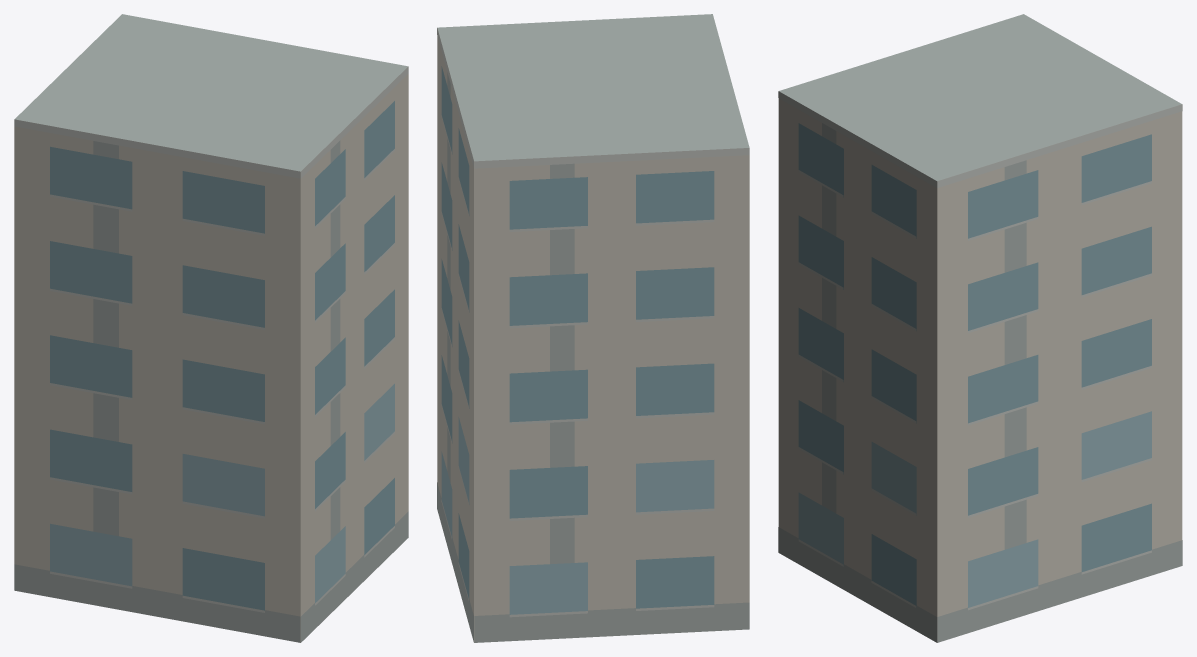
The model's file is residential-e62d8002-8de6-423d-96d1-4c21ae1aebe7.glb.
3 renders of one model, left to right at view 1: azimuth 30°, elevation 25°; view 2: azimuth 150°, elevation 25°; view 3: azimuth 270°, elevation 25°, orthographic. The views are drawn at different scales.
Parts seen in each view (by area): view 1: residential-e62d8002-8de6-423d-96d1-4c21ae1aebe7.tmp; view 2: residential-e62d8002-8de6-423d-96d1-4c21ae1aebe7.tmp; view 3: residential-e62d8002-8de6-423d-96d1-4c21ae1aebe7.tmp.
Boxes of the visible parts, x1,y1,x2,y2 form: residential-e62d8002-8de6-423d-96d1-4c21ae1aebe7.tmp: [14, 14, 408, 642]; residential-e62d8002-8de6-423d-96d1-4c21ae1aebe7.tmp: [437, 14, 749, 642]; residential-e62d8002-8de6-423d-96d1-4c21ae1aebe7.tmp: [778, 14, 1182, 642].
Bounding box in the file's own units: 12.48 × 16.05 × 12.73.
